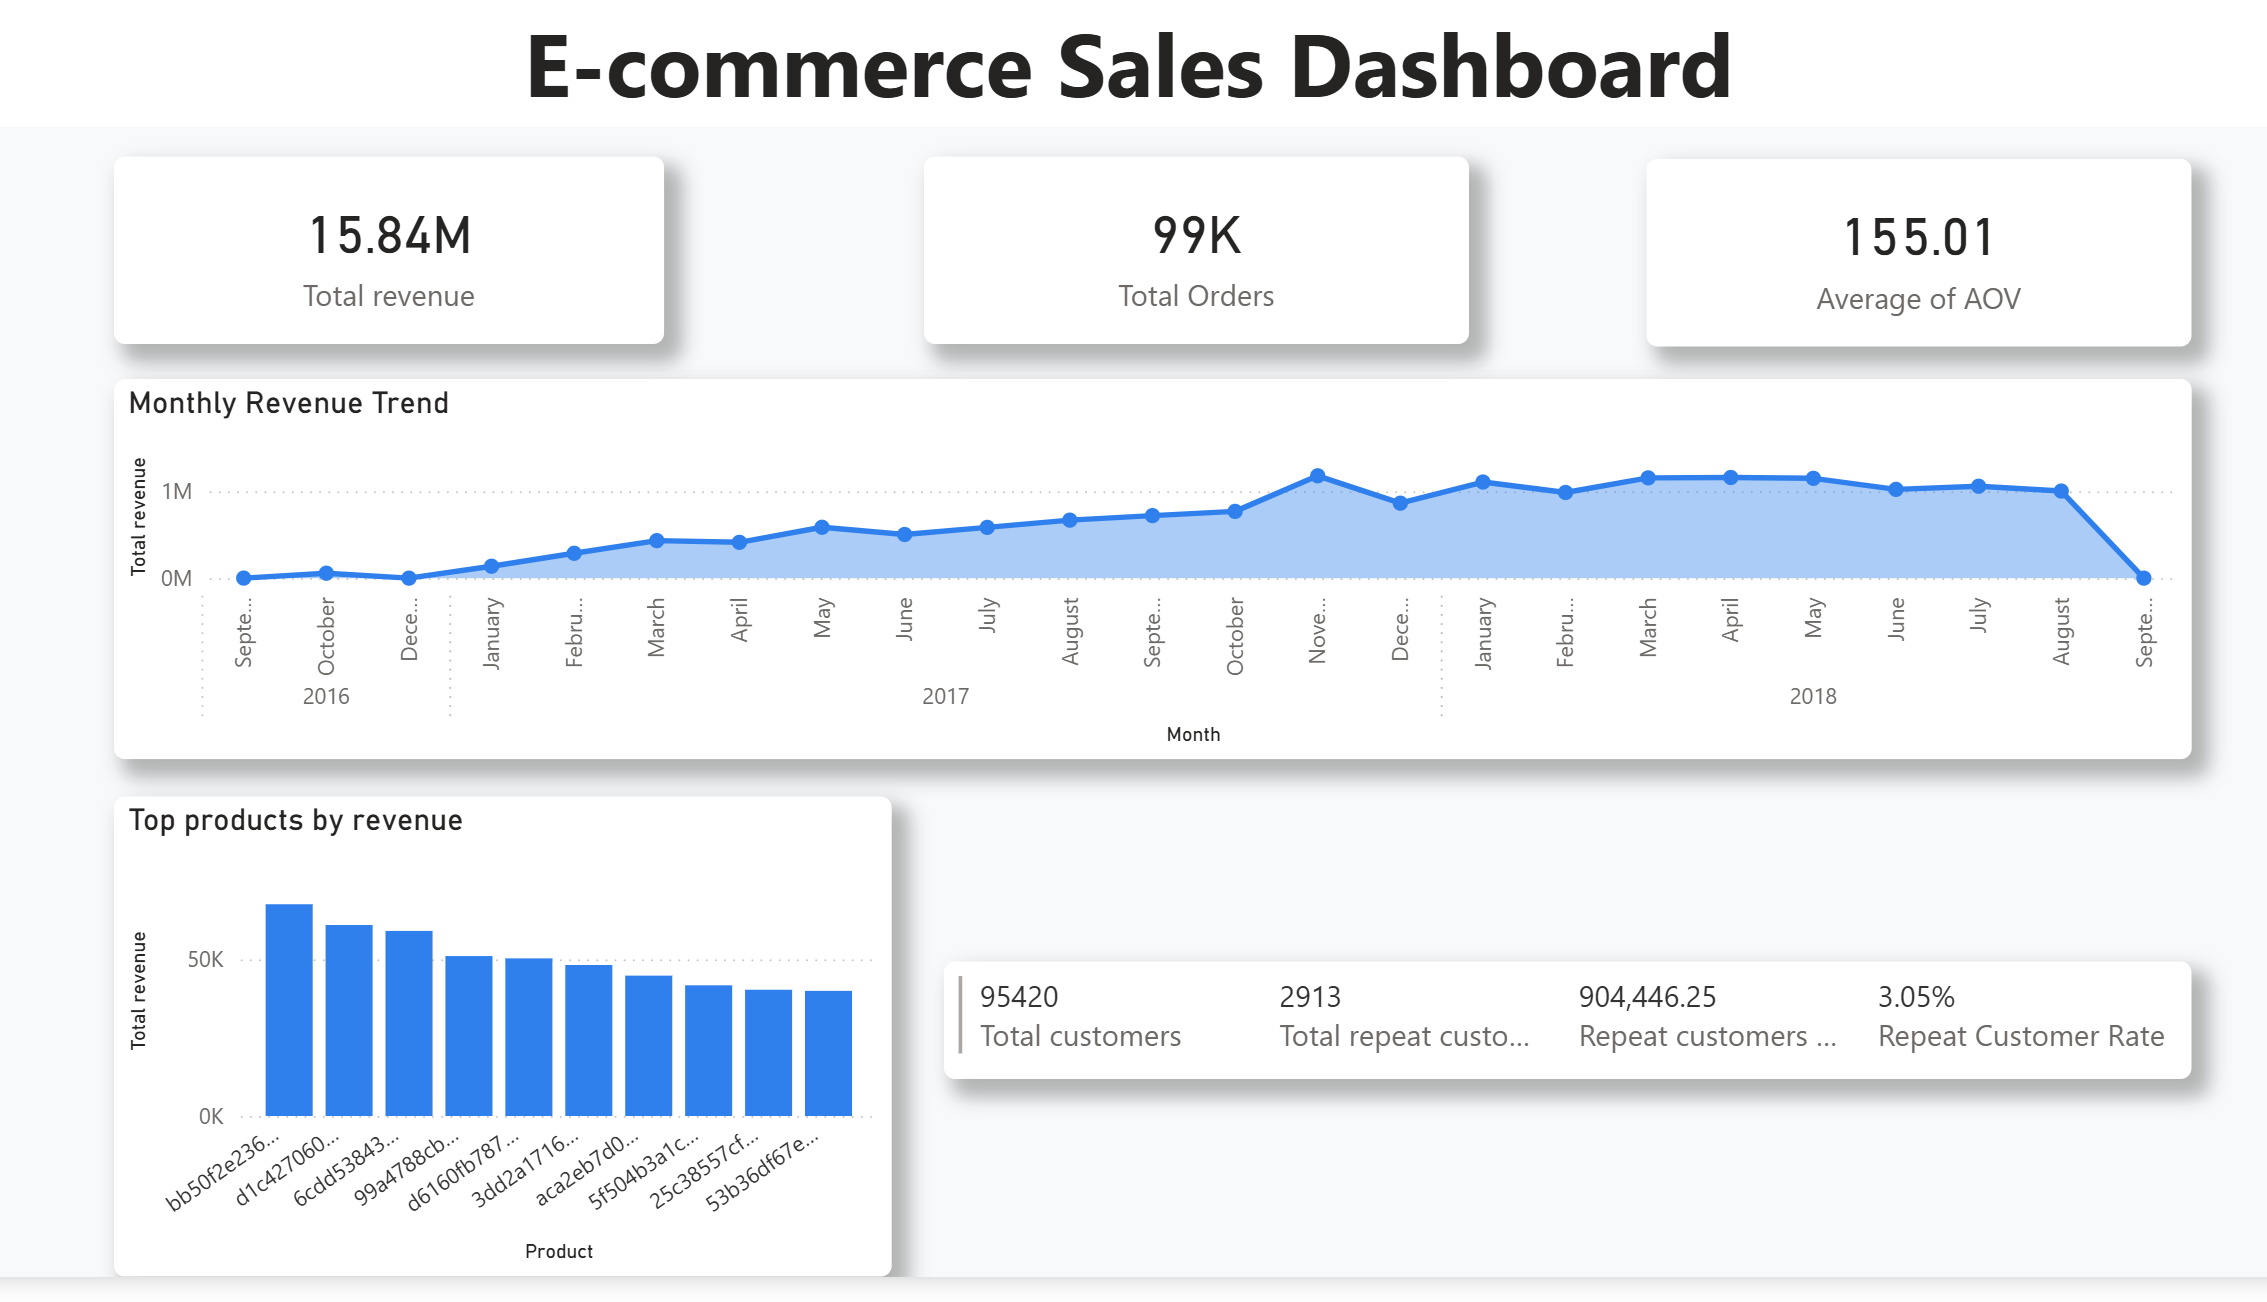

What the dashboard file says about the page in this screenshot:
{"tool":"powerbi","page":{"name":"Page 1","canvas":[1280,720],"ordinal":0},"visuals":[{"type":"textbox","box":[0,16.4,1280.3,72.6],"z":0},{"type":"card","fields":{"Values":["Sum(sales_monthly.revenue)"]},"box":[79.5,105.5,301.6,102.8],"z":1000},{"type":"card","fields":{"Values":["Sum(sales_monthly.total_orders)"]},"box":[523.6,105.5,298.8,102.8],"z":2000},{"type":"card","fields":{"Values":["Avg(sales_monthly.AOV)"]},"box":[919.8,106.9,298.8,102.8],"z":3000},{"type":"lineChart","title":"Monthly Revenue Trend","fields":{"Y":["Sum(sales_monthly.revenue)"],"Category":["sales_monthly.month.Variation.Date Hierarchy.Year","sales_monthly.month.Variation.Date Hierarchy.Month"]},"box":[79.5,227.5,1139.1,208.4],"z":4000},{"type":"clusteredColumnChart","title":"Top products by revenue","fields":{"Category":["top_products.product_id"],"Y":["Sum(top_products.revenue)"]},"box":[79.5,456.5,426.3,263.2],"z":5000},{"type":"multiRowCard","fields":{"Values":["Sum(customer_metrics.total_customers)","Sum(customer_metrics.repeat_customers)","Sum(customer_metrics.repeat_customer_revenue)","customer_metrics.Repeat Customer Rate"]},"box":[534.6,546.9,684,64.4],"z":6000}]}

Visuals, with their boxes in screenshot pixels (x1, y1, x2, y2), scaled from the page's 1280x720 canvas onto the 2267x1302 screenshot:
textbox: 0, 30, 2266, 161
card - Sum(sales_monthly.revenue): 141, 191, 675, 377
card - Sum(sales_monthly.total_orders): 927, 191, 1457, 377
card - Avg(sales_monthly.AOV): 1629, 193, 2158, 379
"Monthly Revenue Trend" lineChart: 141, 411, 2158, 788
"Top products by revenue" clusteredColumnChart: 141, 826, 896, 1301
multiRowCard - Sum(customer_metrics.total_customers) x Sum(customer_metrics.repeat_customers): 947, 989, 2158, 1105
